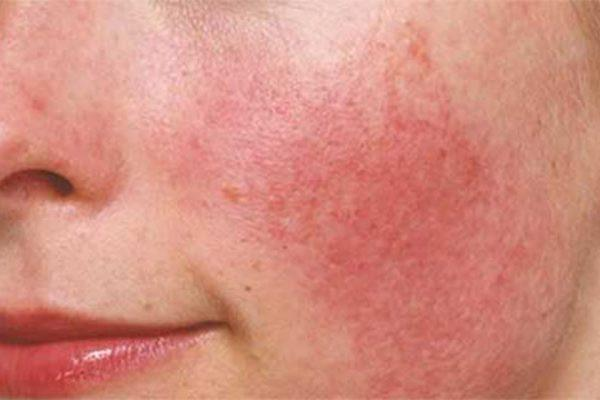Skin-Redness: (229, 49, 508, 319)
